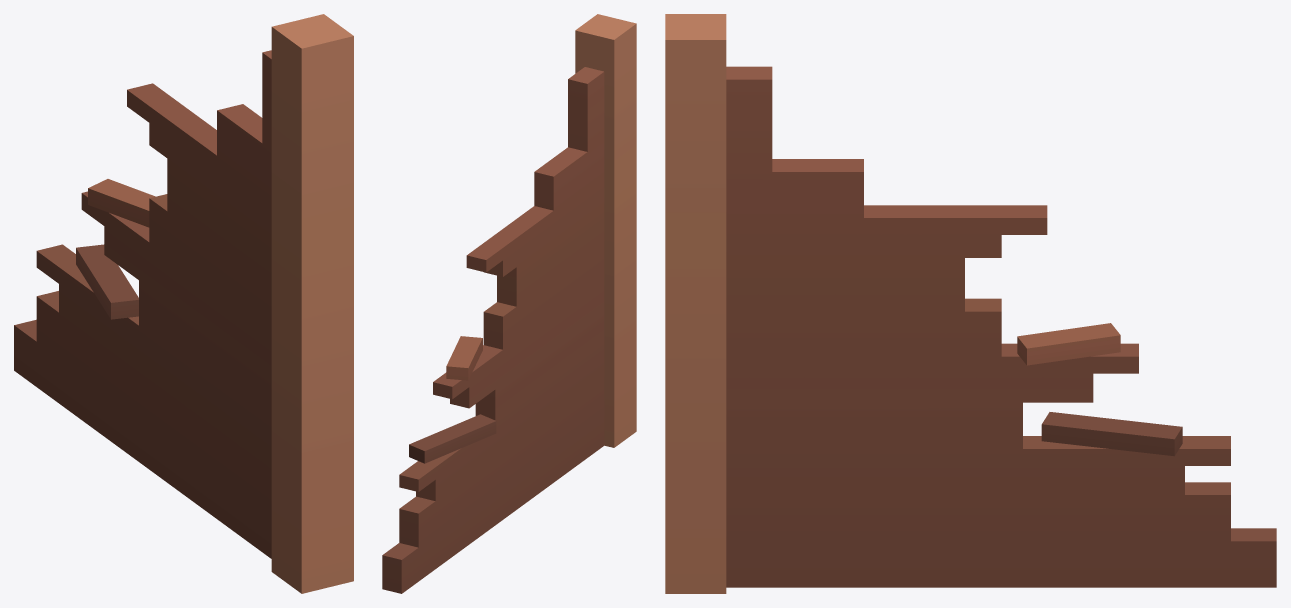
File: wall-wood-broken.glb
The picture shows the model from 3 angles, left to right: view 1: azimuth 30°, elevation 25°; view 2: azimuth 150°, elevation 25°; view 3: azimuth 270°, elevation 25°; orthographic projection. The views are drawn at different scales.
Parts seen in each view (by area): view 1: wall-wood-broken; view 2: wall-wood-broken; view 3: wall-wood-broken.
Part boxes in pixels (x1=…): wall-wood-broken: x1=14, y1=14, x2=353, y2=593; wall-wood-broken: x1=382, y1=14, x2=636, y2=593; wall-wood-broken: x1=665, y1=14, x2=1276, y2=593.
Bounding box in the file's own units: 0.1129 × 1 × 1.
Materials: 1 (1 with a texture image).
